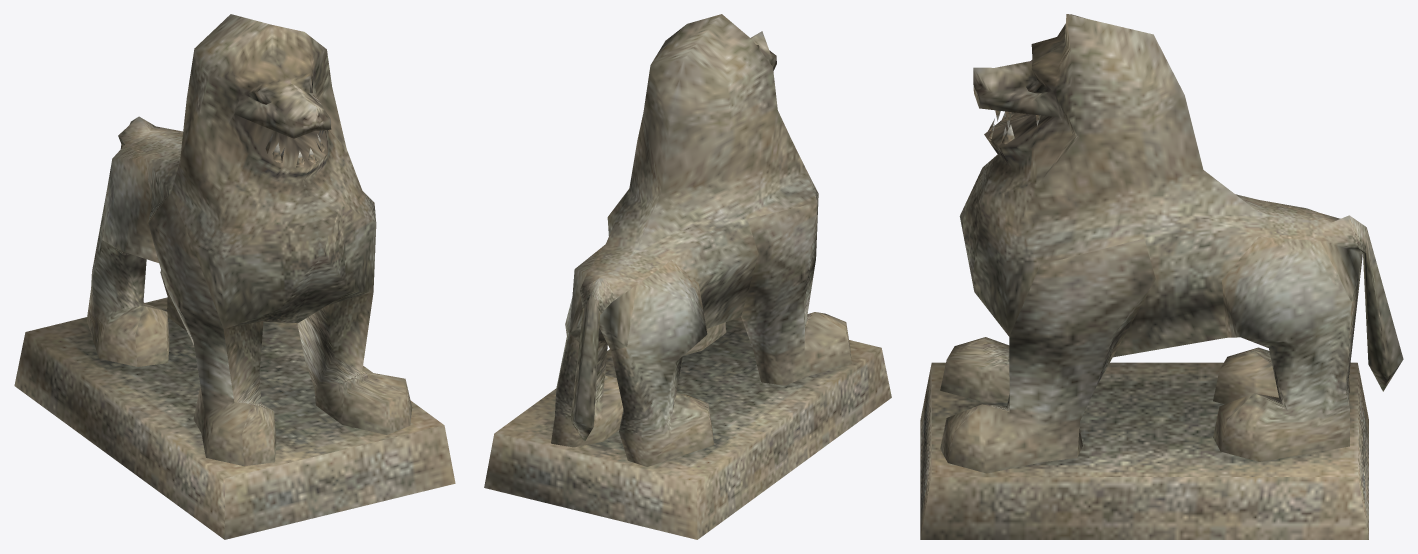
Rendered from desert_lionstone_lod_01.fbx.
3 renders of one model, left to right at view 1: azimuth 30°, elevation 25°; view 2: azimuth 150°, elevation 25°; view 3: azimuth 270°, elevation 25°, orthographic. The views are drawn at different scales.
Parts seen in each view (by area): view 1: Bip01; view 2: Bip01; view 3: Bip01.
Boxes of the visible parts, x1,y1,x2,y2 form: Bip01: (14,14,455,539); Bip01: (484,14,891,539); Bip01: (920,14,1403,539).
Bounding box in the file's own units: 2.77 × 5.01 × 4.71.
